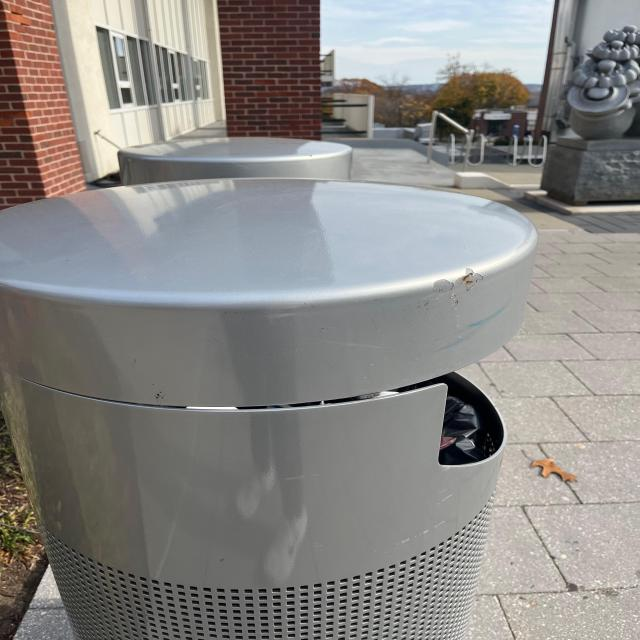Crevice Corrosion: (448, 272, 507, 298)
